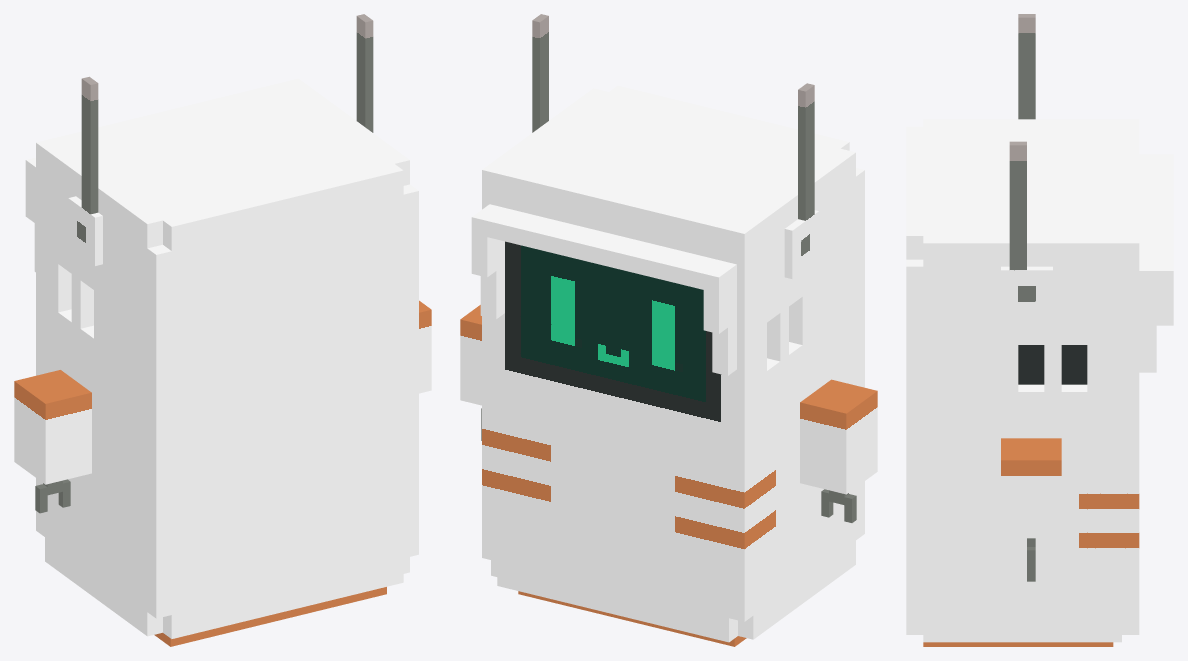
The model's file is 和平队长复刻版_2.gltf.
3 views of the same model, side by side, from view 1: azimuth 30°, elevation 25°; view 2: azimuth 150°, elevation 25°; view 3: azimuth 270°, elevation 25° (orthographic). The views are drawn at different scales.
Visible parts, largest first — view 1: Object; view 2: Object; view 3: Object.
Part boxes in pixels (bbox=[...]): Object: bbox=[14, 14, 431, 646]; Object: bbox=[460, 14, 877, 646]; Object: bbox=[906, 14, 1173, 646].
Size of the model in its own units: 50 by 66 by 31.
1 material, 1 textured.
